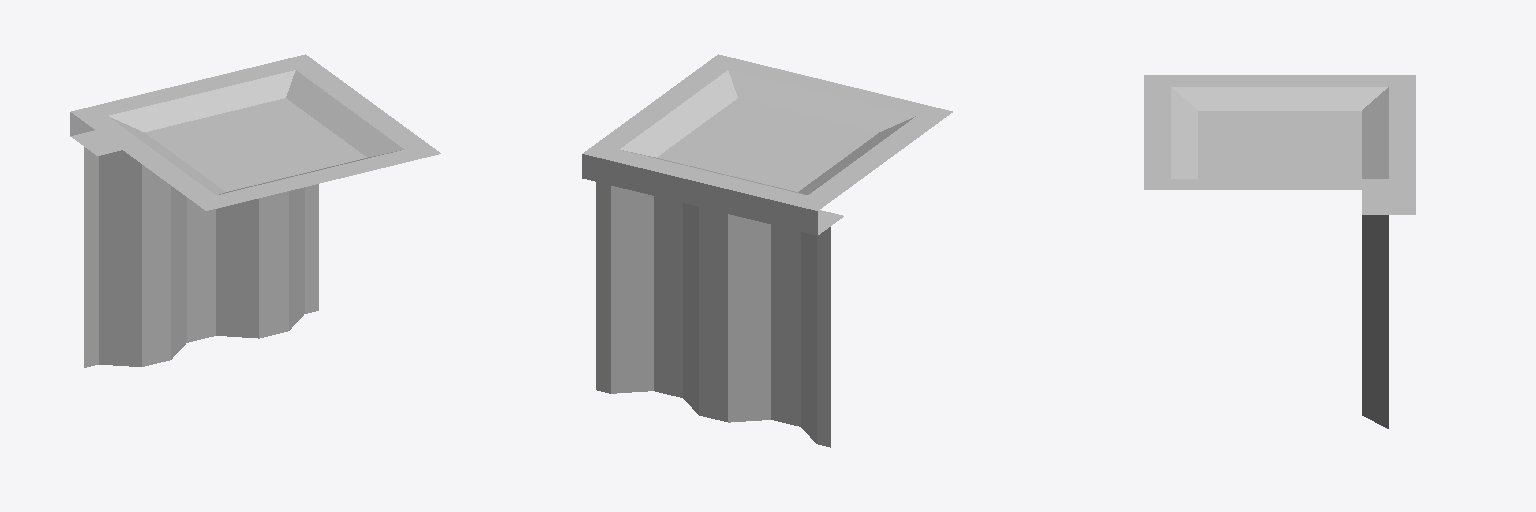
Rendered from Straight_Edge_Wall_Roof_Outer_Corner.obj.
3 views of the same model, side by side, from view 1: azimuth 30°, elevation 25°; view 2: azimuth 150°, elevation 25°; view 3: azimuth 270°, elevation 25° (orthographic).
Parts seen in each view (by area): view 1: Straight_Edge_Wall_Roof_Outer_Corner; view 2: Straight_Edge_Wall_Roof_Outer_Corner; view 3: Straight_Edge_Wall_Roof_Outer_Corner.
Part boxes in pixels (bbox=[...]): Straight_Edge_Wall_Roof_Outer_Corner: bbox=[70, 54, 440, 367]; Straight_Edge_Wall_Roof_Outer_Corner: bbox=[582, 54, 952, 447]; Straight_Edge_Wall_Roof_Outer_Corner: bbox=[1144, 75, 1415, 428].
Size of the model in its own units: 1 by 1 by 1.